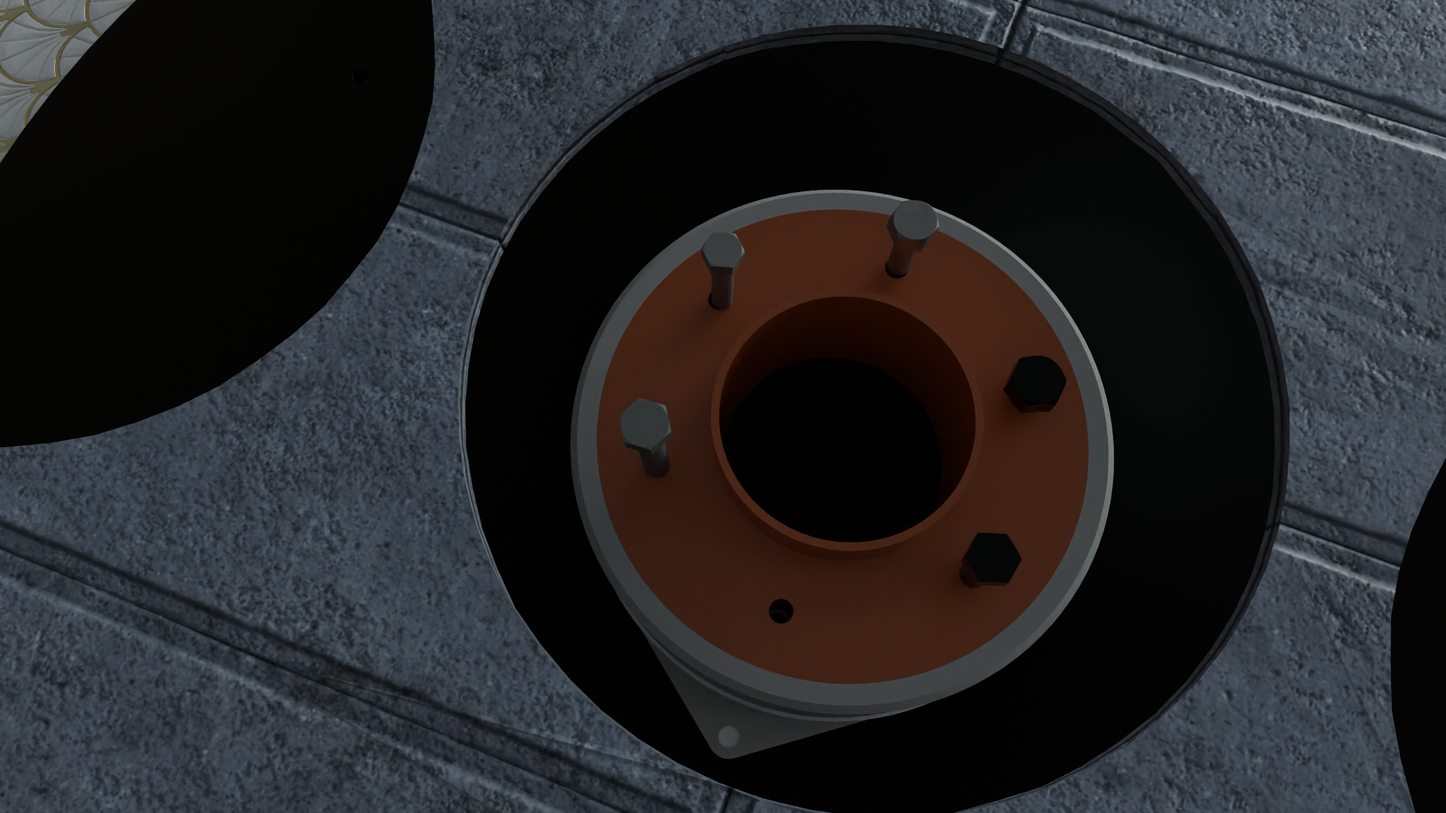bolt: (1008, 355, 1066, 406), (965, 533, 1022, 583), (618, 398, 671, 450), (889, 200, 939, 244), (701, 232, 745, 268)
